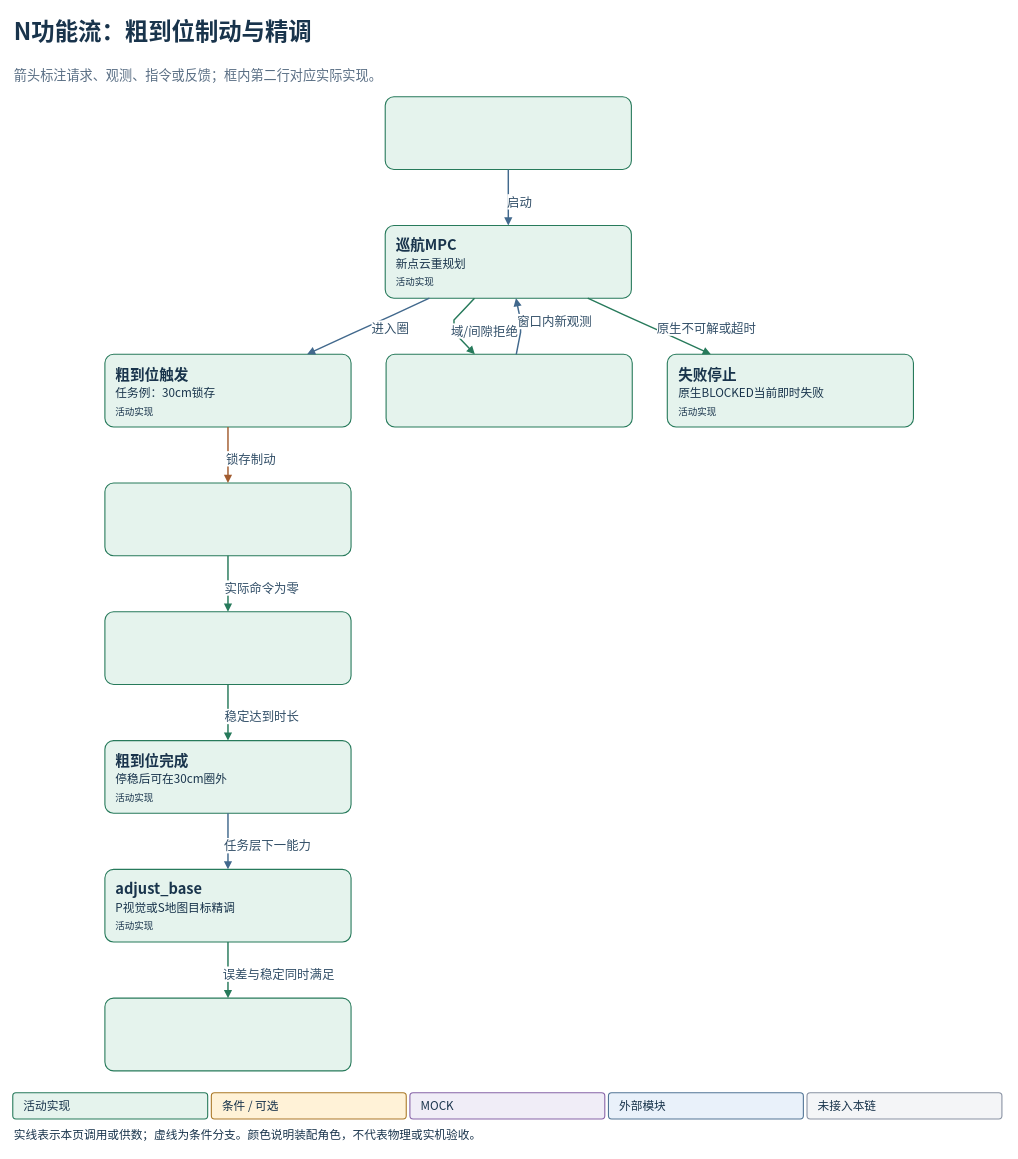
The diagram is 1018 pixels wide and 1159 high, and some of its shapes have lost their labels. Here are the shapes that lost their labels. From the top down, the centre of each, then its label:
the point at 508,133: 输入就绪 包络、定位、局部图、SDK 活动实现
the point at 508,390: 零速重试 域/间隙检查的有限窗口 活动实现
the point at 227,519: 制动归零 核对实际已发速度 活动实现
the point at 227,648: 本体相对稳定 SDK source有效且1s稳定 活动实现
the point at 227,1034: 精确到位 示例5cm / 10° + 稳定 活动实现
